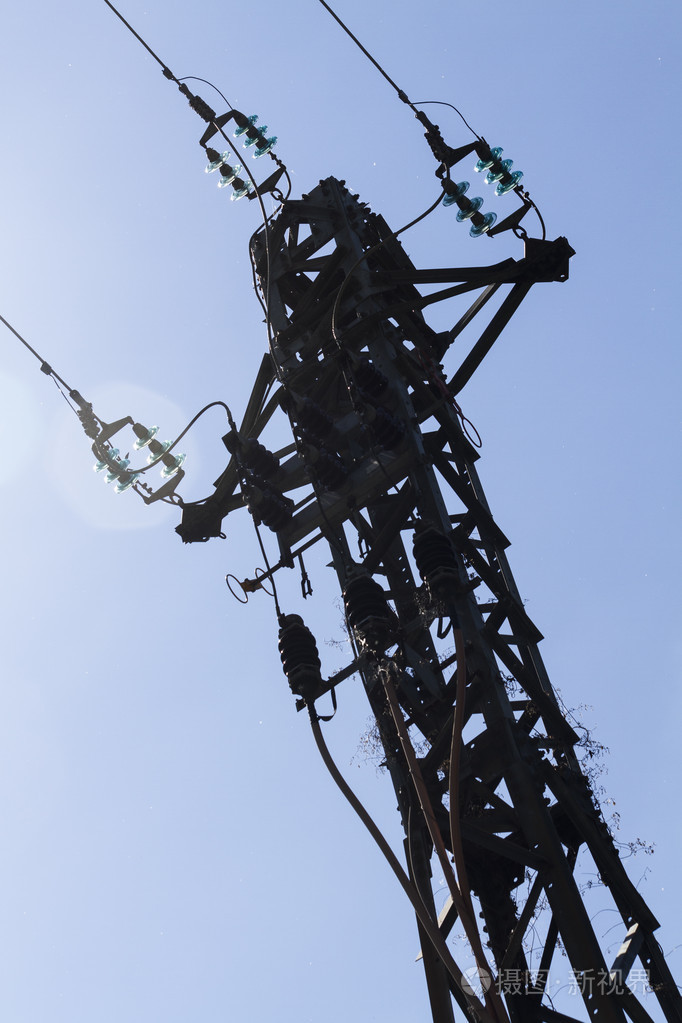insulator: (442, 178, 497, 235), (475, 139, 522, 198), (134, 424, 185, 475), (205, 147, 252, 200), (234, 113, 287, 158), (92, 447, 136, 491)
